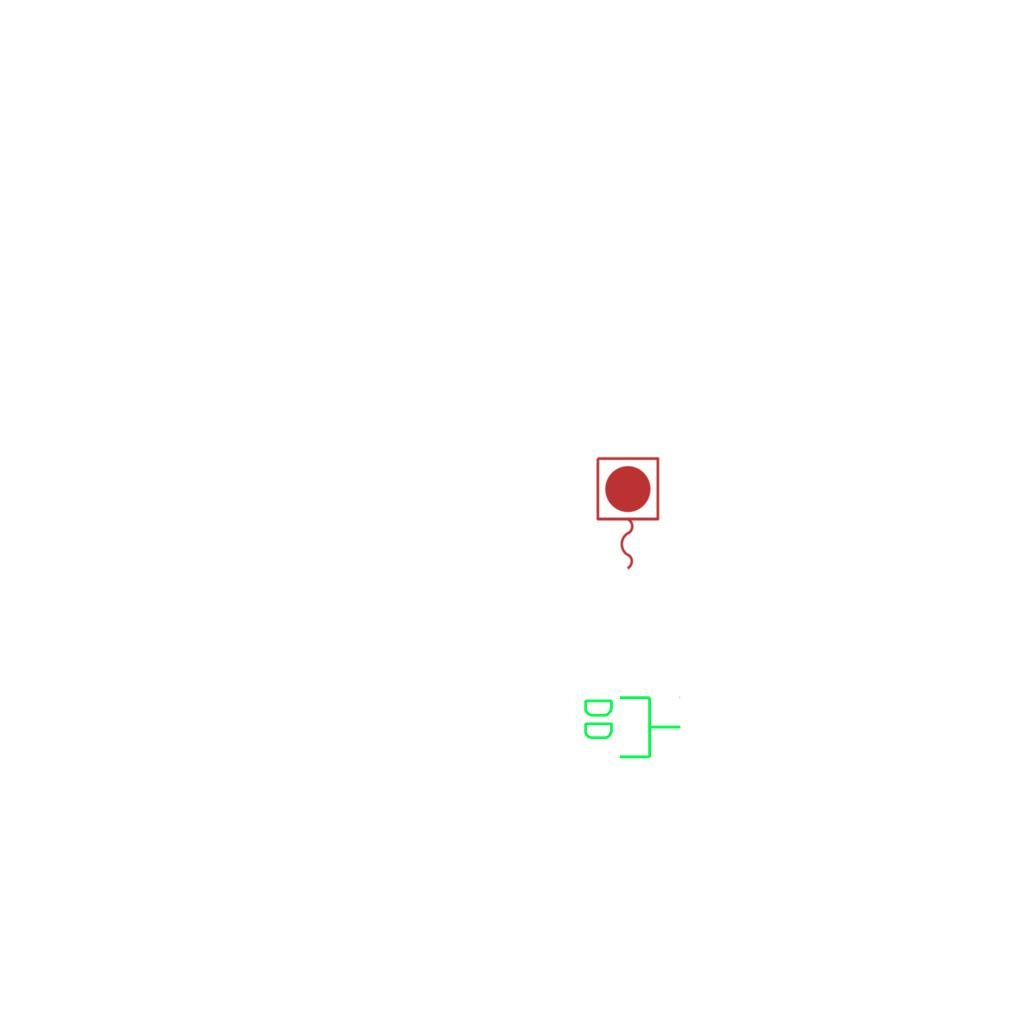Datenanschluss_zweifach: (580, 692, 683, 761)
Zugtaster: (591, 453, 663, 575)
